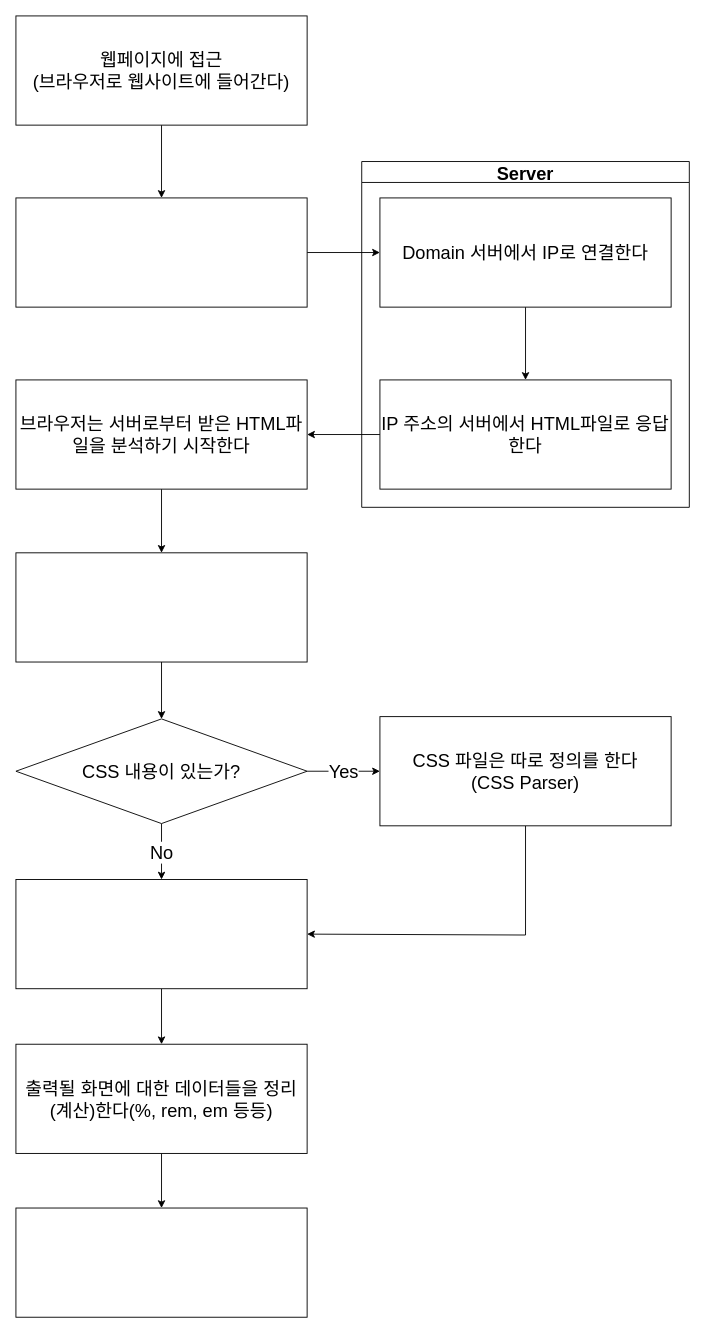
The diagram is 705 pixels wide and 1333 high, and some of its shapes have lost their labels. The centre of each missing label's shape, as x and y in pixels:
"랜더링 (=printing) (출력)" goes at pixel 161 1262.
"분석한 DOM 객체에 CSS 파일 정보를 추가한다" goes at pixel 161 934.
"분석한 파일을 DOM 객체에 프로퍼티로 정의한다 (HTML파일의 구조만을 저장한다)" goes at pixel 161 607.
"브라우저는 해당 주소(Domain)에 진입한다" goes at pixel 161 252.
